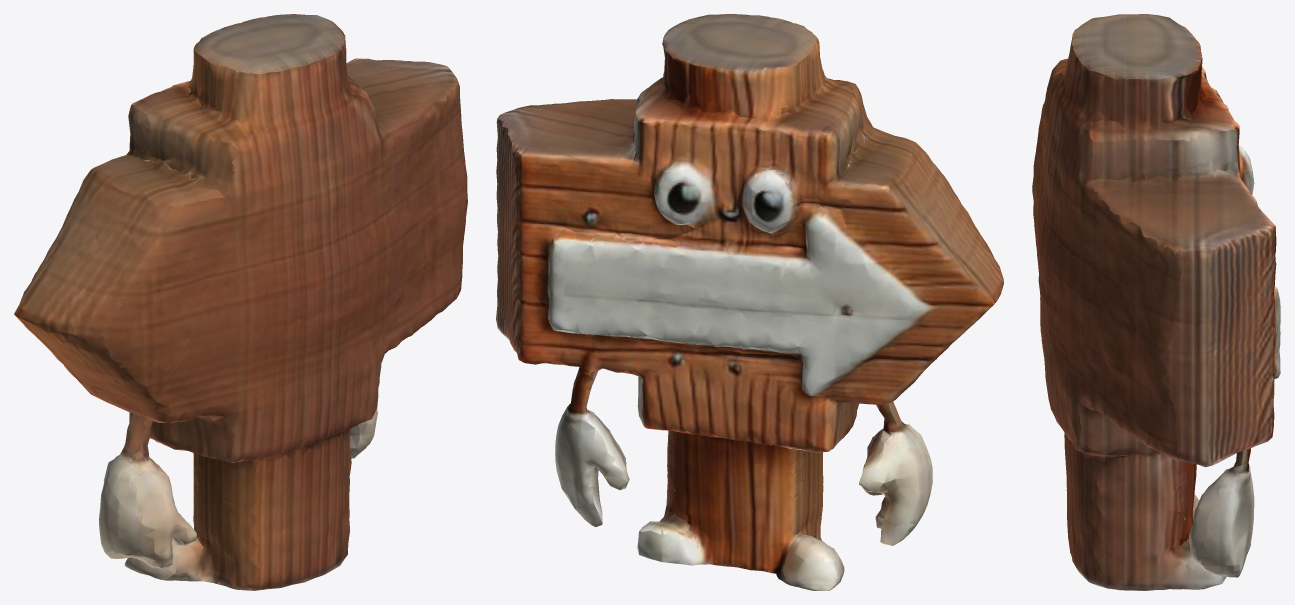
Rendered from arrow.glb.
The picture shows the model from 3 angles, left to right: view 1: azimuth 30°, elevation 25°; view 2: azimuth 150°, elevation 25°; view 3: azimuth 270°, elevation 25°; orthographic projection. The views are drawn at different scales.
Visible parts, largest first — view 1: world; view 2: world; view 3: world.
Boxes of the visible parts, x1=… form: world: x1=14, y1=14, x2=467, y2=590; world: x1=496, y1=14, x2=1003, y2=590; world: x1=1032, y1=14, x2=1280, y2=590.
Bounding box in the file's own units: 0.883 × 0.9345 × 0.4027.
1 material, 1 textured.
